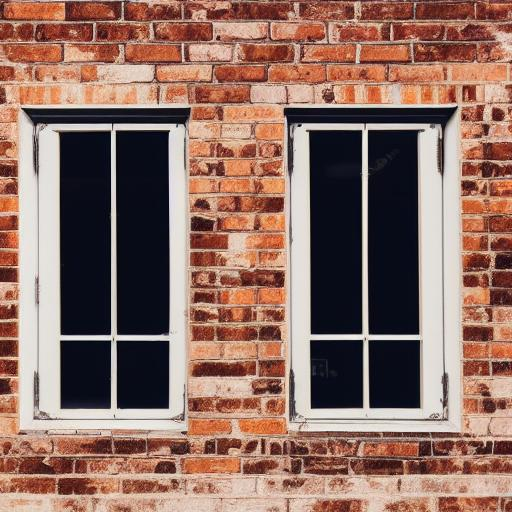Window: (15, 83, 497, 440)
